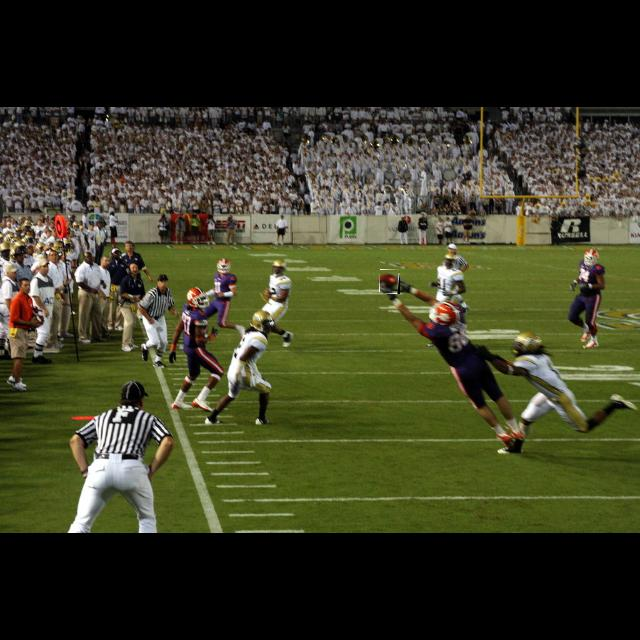Football: (380, 270, 400, 294)
